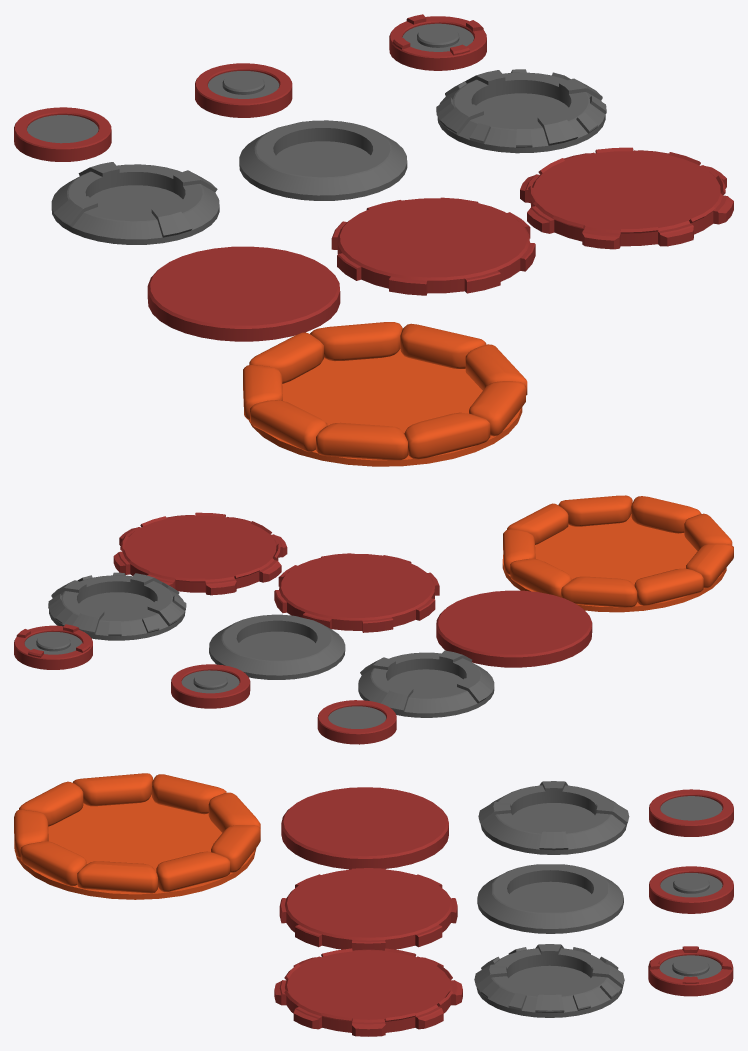
File: uploads_files_4556949_Mine.fbx
The picture shows the model from 3 angles, top to bottom: view 1: azimuth 30°, elevation 25°; view 2: azimuth 150°, elevation 25°; view 3: azimuth 270°, elevation 25°; orthographic projection. The views are drawn at different scales.
Visible parts, largest first — view 1: Cube, Cylinder.003, Cylinder, Cylinder.006, Circle, Cylinder.004, Cylinder.010, Cylinder.007, Cylinder.005, Cylinder.002, Cylinder.001; view 2: Cube, Cylinder.003, Cylinder, Cylinder.006, Circle, Cylinder.004, Cylinder.010, Cylinder.007, Cylinder.005, Cylinder.001, Cylinder.002; view 3: Cube, Cylinder.003, Cylinder, Cylinder.006, Circle, Cylinder.004, Cylinder.010, Cylinder.007, Cylinder.005, Cylinder.002, Cylinder.001.
Boxes of the visible parts, x1,y1,x2,y2 form: Cube: (243, 322, 527, 460); Cylinder.003: (520, 147, 733, 249); Cylinder: (331, 197, 535, 295); Cylinder.006: (147, 246, 340, 341); Circle: (249, 349, 522, 466); Cylinder.004: (436, 69, 606, 153); Cylinder.010: (51, 162, 219, 244); Cylinder.007: (239, 120, 407, 200); Cylinder.005: (389, 14, 486, 70); Cylinder.002: (195, 63, 292, 117); Cylinder.001: (14, 107, 111, 161); Cube: (503, 495, 733, 607); Cylinder.003: (113, 512, 287, 595); Cylinder: (274, 553, 439, 632); Cylinder.006: (436, 590, 592, 667); Circle: (502, 514, 726, 612); Cylinder.004: (48, 572, 186, 640); Cylinder.010: (358, 650, 494, 717); Cylinder.007: (209, 614, 345, 679); Cylinder.005: (14, 624, 92, 669); Cylinder.001: (317, 700, 396, 744); Cylinder.002: (171, 664, 250, 708); Cube: (14, 773, 260, 893); Cylinder.003: (274, 948, 462, 1036); Cylinder: (279, 868, 457, 950); Cylinder.006: (281, 787, 448, 869); Circle: (14, 794, 256, 899); Cylinder.004: (474, 944, 624, 1017); Cylinder.010: (478, 781, 629, 854); Cylinder.007: (477, 864, 623, 933); Cylinder.005: (648, 946, 733, 996); Cylinder.002: (649, 866, 733, 913); Cylinder.001: (649, 789, 733, 836).
Size of the model in its own units: 715 by 57.91 by 858.
